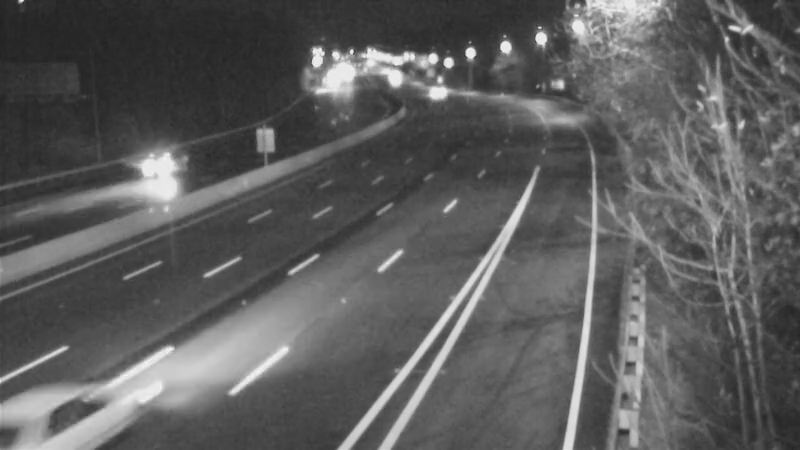vehicle: (12, 351, 122, 450), (114, 135, 194, 215), (406, 65, 456, 115)
